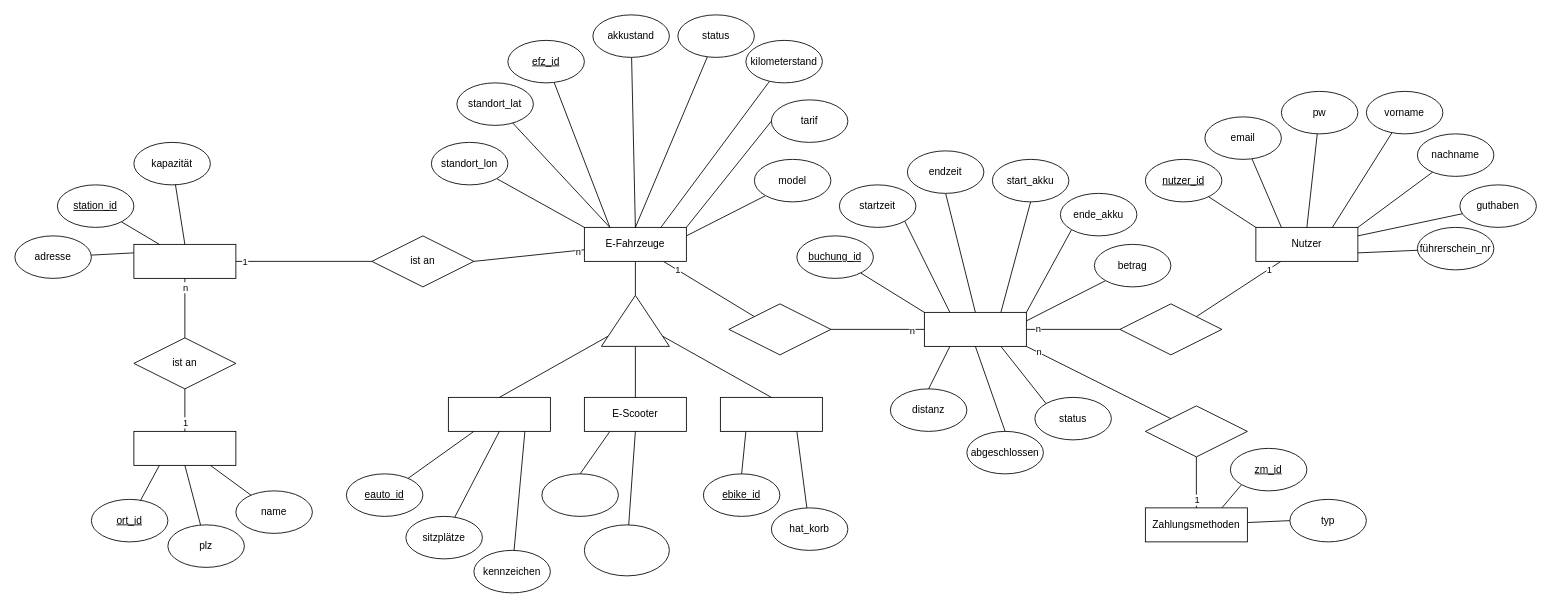
Image size: 1551x608. Some labels were removed from this diagram. The centre of each missing label's shape, as x and y in pixels:
"beinhaltet" belongs at [779,329].
"Buchungen" belongs at [975,329].
"E-Autos" belongs at [499,414].
"E-Bikes" belongs at [771,414].
"escooter_id" belongs at [579,494].
"hat" belongs at [1196,431].
"höchstgeschwindigkeit" belongs at [626,550].
"is-a" belongs at [635,320].
"macht" belongs at [1170,329].
"Orte" belongs at [184,448].
"Stationen" belongs at [184,261].
